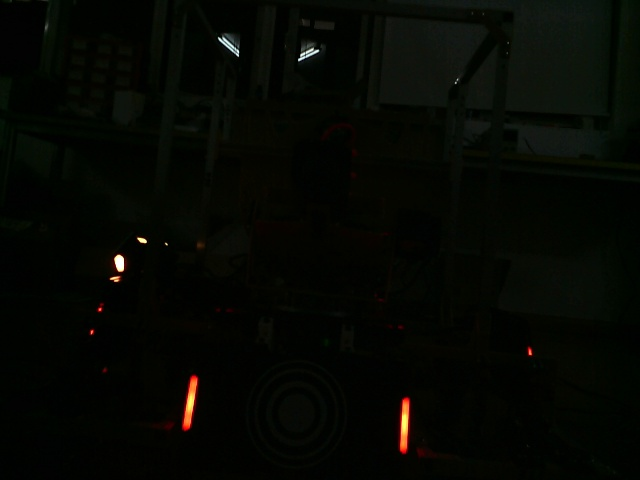lamp: (178, 372, 200, 432), (394, 396, 414, 453)
